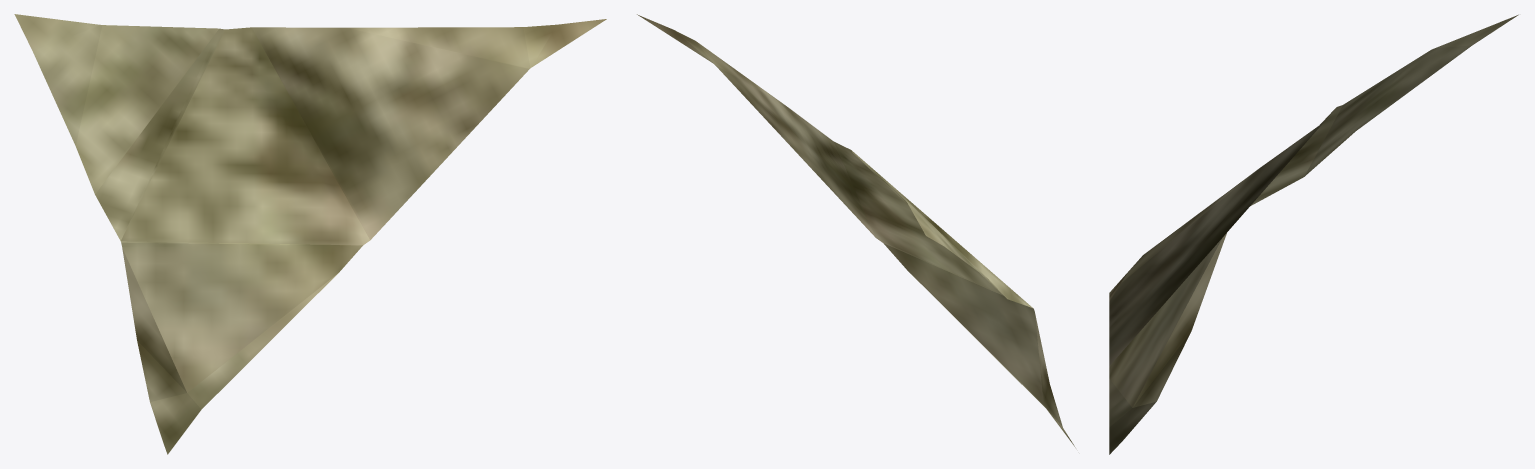
The picture shows the model from 3 angles, left to right: view 1: azimuth 30°, elevation 25°; view 2: azimuth 150°, elevation 25°; view 3: azimuth 270°, elevation 25°; orthographic projection. The views are drawn at different scales.
Size of the model in its own units: 1.41 by 1 by 0.8483.
Materials: 1 (1 with a texture image).
